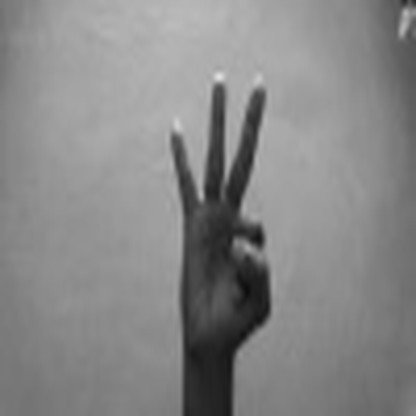f: (157, 63, 284, 367)
